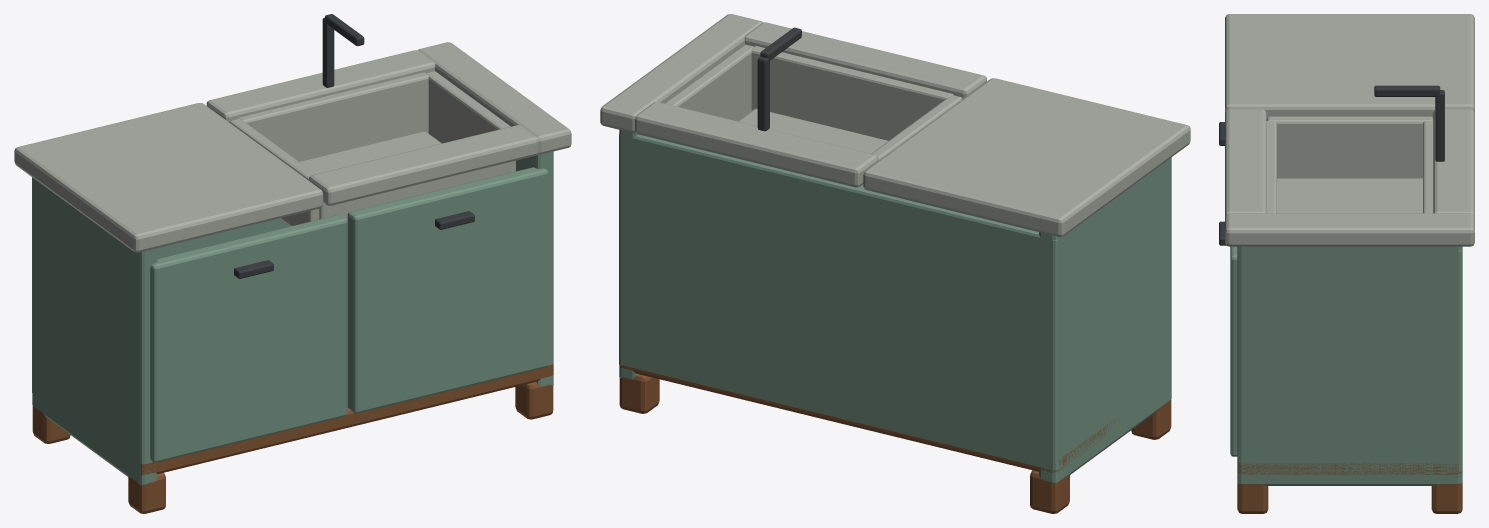
File: kitchen_counter.glb
3 views of the same model, side by side, from view 1: azimuth 30°, elevation 25°; view 2: azimuth 150°, elevation 25°; view 3: azimuth 270°, elevation 25° (orthographic). The views are drawn at different scales.
Visible parts, largest first — view 1: door.003, door.002, cabinet_side, worktop_left, basin_end.001, rim, rim.001, rim_right, base, basin_side.001, basin_end, basin_bottom (+7 smaller); view 2: back.001, worktop_left, cabinet_side, basin_end, rim.001, rim_right, rim, basin_side.001, base, basin_bottom, leg.027, leg.025 (+3 smaller); view 3: cabinet_side.001, worktop_left, basin_side, rim_right, basin_bottom, rim, rim.001, back.001, base, door.003, basin_end, basin_end.001 (+4 smaller).
Part boxes in pixels (<box>): door.003: <box>347,167,548,413</box>; door.002: <box>150,215,347,462</box>; cabinet_side: <box>32,178,157,485</box>; worktop_left: <box>14,103,323,252</box>; basin_end.001: <box>238,72,428,161</box>; rim: <box>309,125,538,205</box>; rim.001: <box>206,50,435,122</box>; rim_right: <box>418,42,571,154</box>; base: <box>140,364,553,475</box>; basin_side.001: <box>426,71,515,172</box>; basin_end: <box>319,162,508,221</box>; basin_bottom: <box>300,131,441,173</box>; back.001: <box>619,134,1063,471</box>; worktop_left: <box>863,78,1190,236</box>; cabinet_side: <box>1039,157,1171,483</box>; basin_end: <box>751,46,953,140</box>; rim.001: <box>635,102,878,187</box>; rim_right: <box>600,14,763,132</box>; rim: <box>744,22,986,98</box>; basin_side.001: <box>664,44,753,121</box>; base: <box>619,365,1129,472</box>; basin_bottom: <box>738,108,887,153</box>; leg.027: <box>619,374,659,413</box>; leg.025: <box>1030,470,1069,513</box>; cabinet_side.001: <box>1237,246,1462,485</box>; worktop_left: <box>1225,14,1474,118</box>; basin_side: <box>1266,116,1433,178</box>; rim_right: <box>1225,213,1474,246</box>; basin_bottom: <box>1277,178,1422,213</box>; rim: <box>1225,109,1266,216</box>; rim.001: <box>1433,109,1474,216</box>; back.001: <box>1449,250,1462,472</box>; base: <box>1237,462,1461,474</box>; door.003: <box>1230,246,1237,456</box>; basin_end: <box>1266,121,1276,213</box>; basin_end.001: <box>1423,121,1433,213</box>.
Bounding box in the file's own units: 1.48 × 1.16 × 0.7375.
